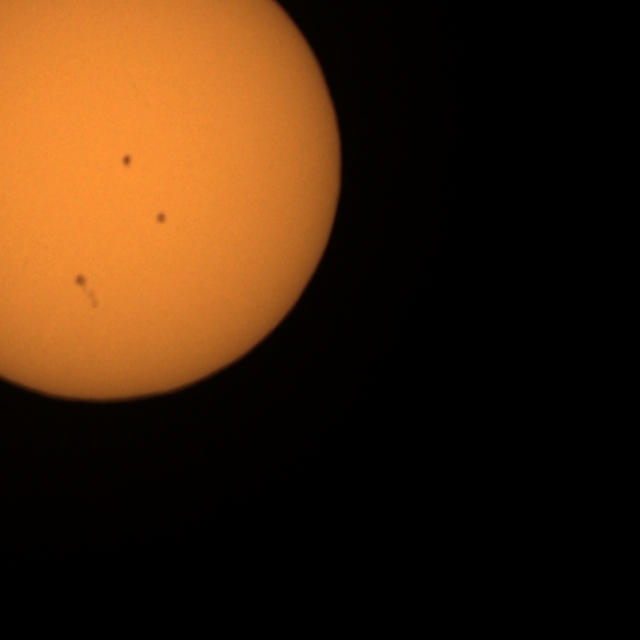sunspot: (73, 270, 100, 313), (72, 272, 89, 291), (120, 152, 134, 170), (154, 210, 168, 226)
